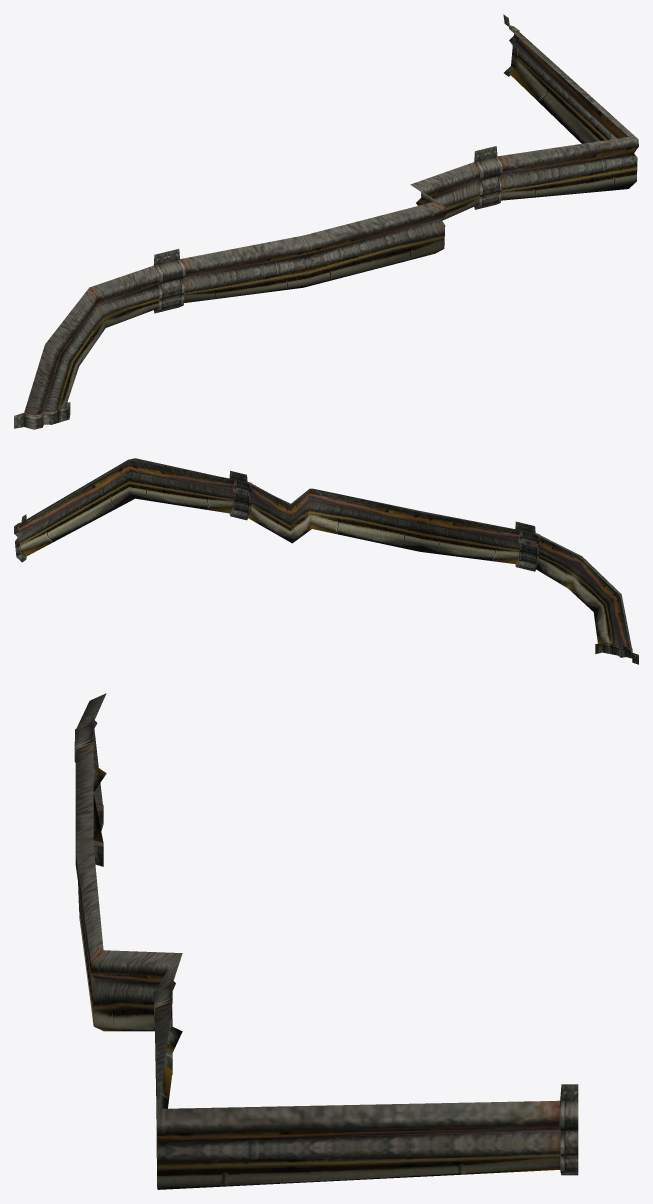
File: M12_SidePipes_M.glb
3 renders of one model, top to bottom at view 1: azimuth 30°, elevation 25°; view 2: azimuth 150°, elevation 25°; view 3: azimuth 270°, elevation 25°, orthographic. The views are drawn at different scales.
Parts seen in each view (by area): view 1: M12_SIDEPIPES_M; view 2: M12_SIDEPIPES_M; view 3: M12_SIDEPIPES_M.
Part boxes in pixels (bbox=[...]): M12_SIDEPIPES_M: bbox=[14, 14, 638, 429]; M12_SIDEPIPES_M: bbox=[14, 458, 638, 664]; M12_SIDEPIPES_M: bbox=[74, 693, 578, 1189].
Size of the model in its own units: 7.39 by 1.58 by 3.18.
1 material, 1 textured.
